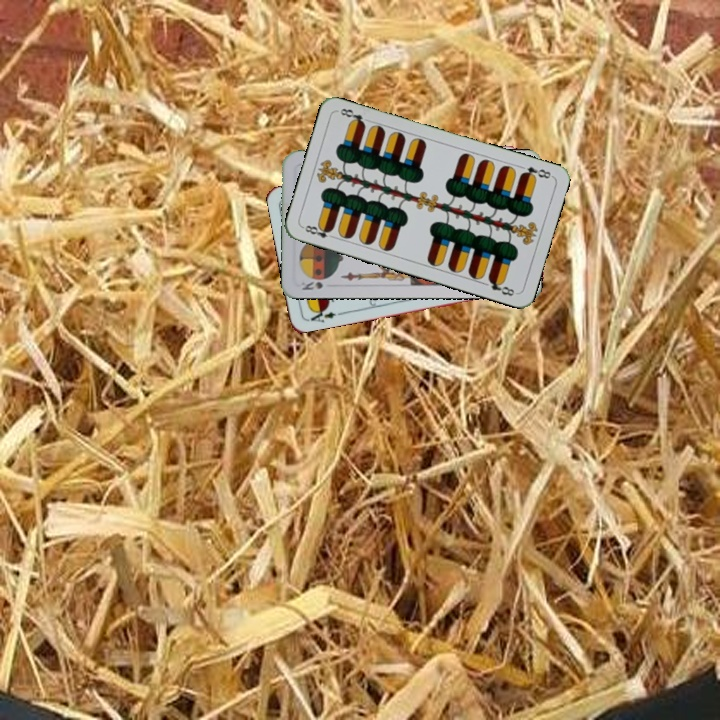E8: (299, 221, 338, 241), (516, 162, 554, 182)
EA: (303, 303, 344, 325)
SK: (297, 277, 325, 292)
